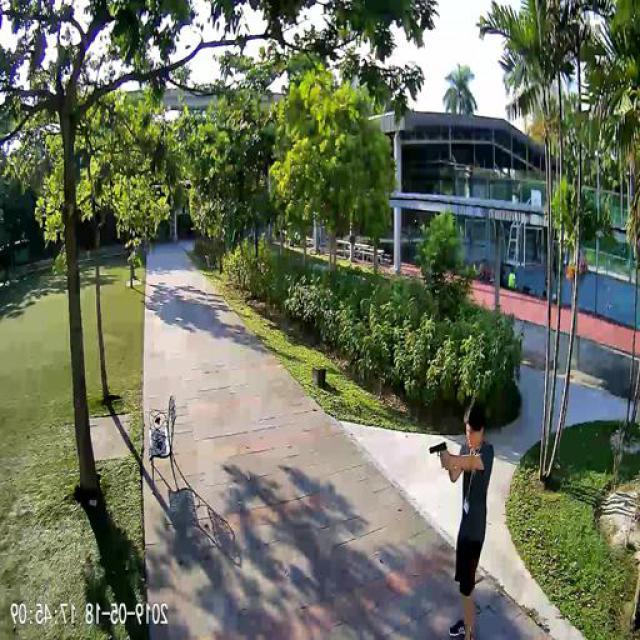Gun: (431, 438, 450, 458)
